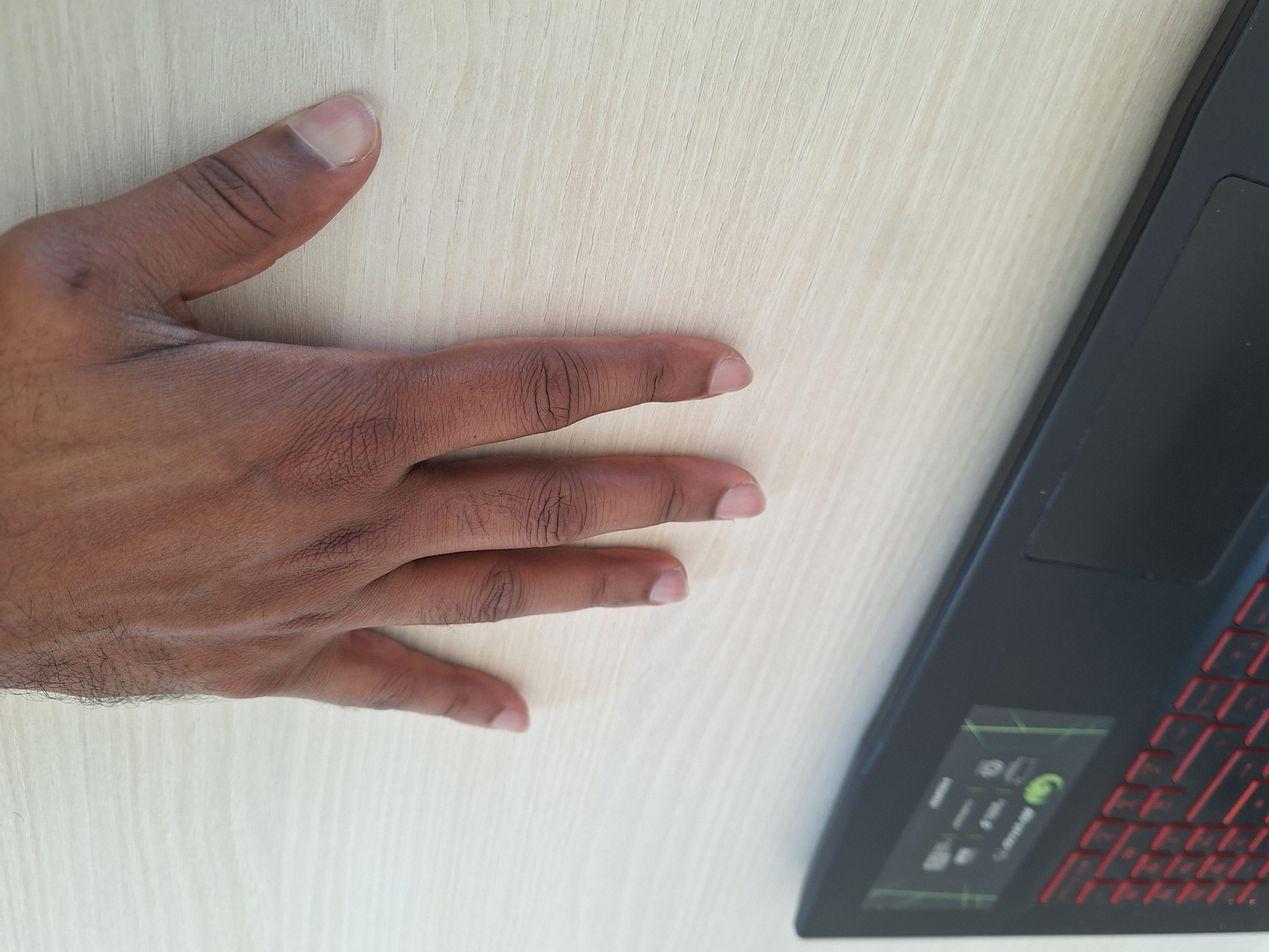Fingernail: (293, 94, 378, 166), (715, 482, 767, 519), (710, 357, 754, 395), (648, 568, 689, 604), (492, 709, 528, 733)
